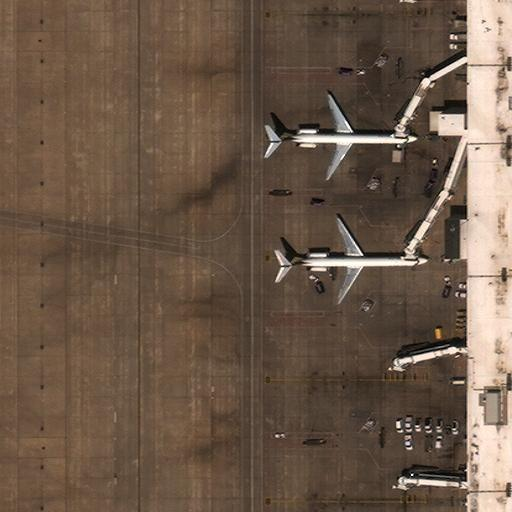Medium Civil Transport: (265, 94, 419, 182), (276, 217, 429, 305)
